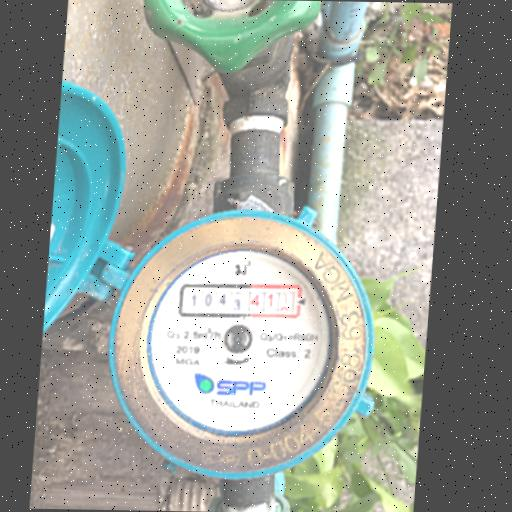0: (203, 293, 216, 311)
1: (264, 293, 278, 312), (279, 294, 293, 313), (188, 292, 201, 311)
3: (232, 293, 245, 312)
4: (249, 293, 263, 312), (218, 292, 231, 311)
border_water_meter_number: (177, 283, 303, 319)
